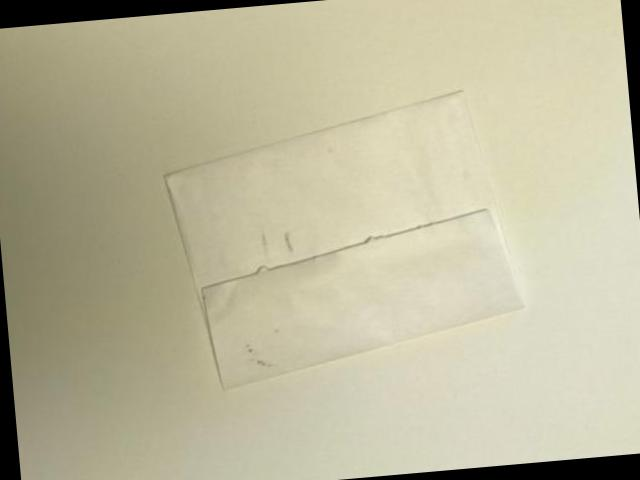cardboard paper: (166, 89, 522, 384)
